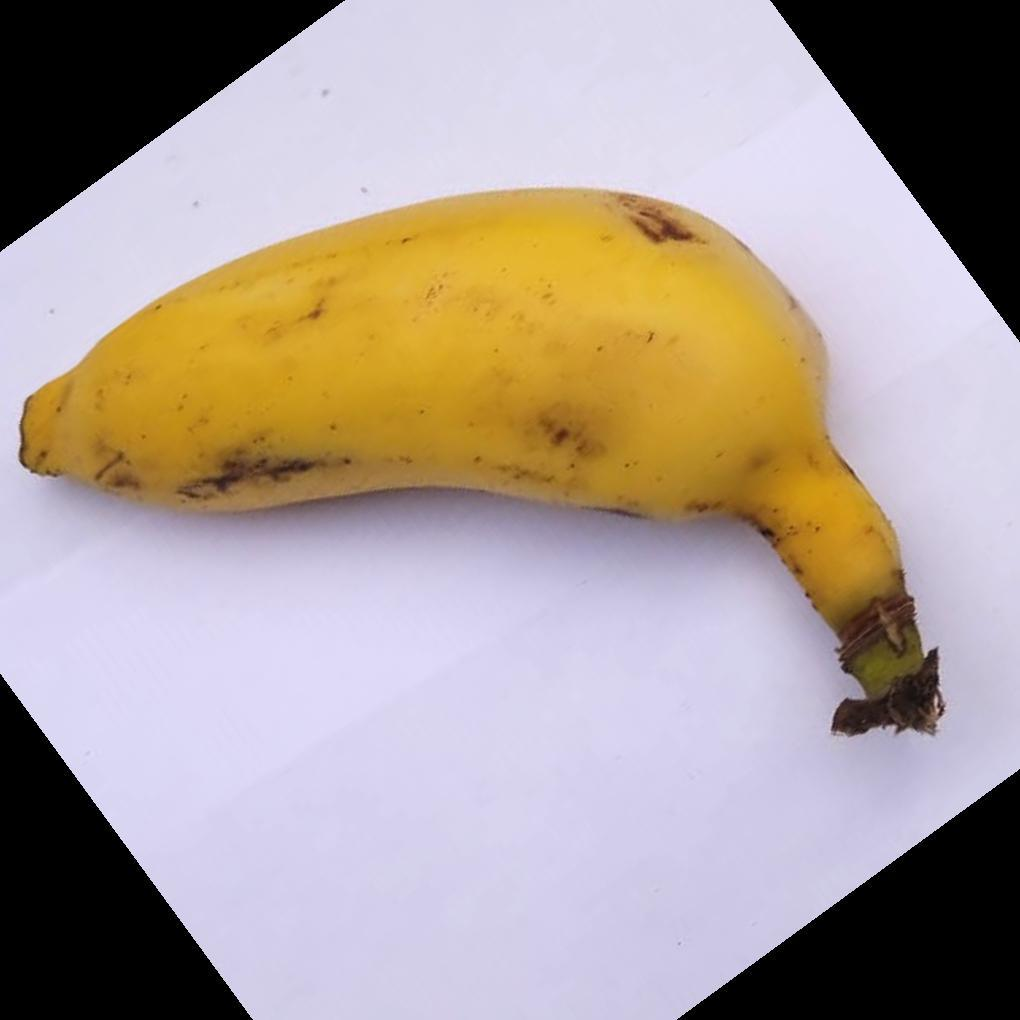Banana Ripe: (0, 138, 966, 768)
